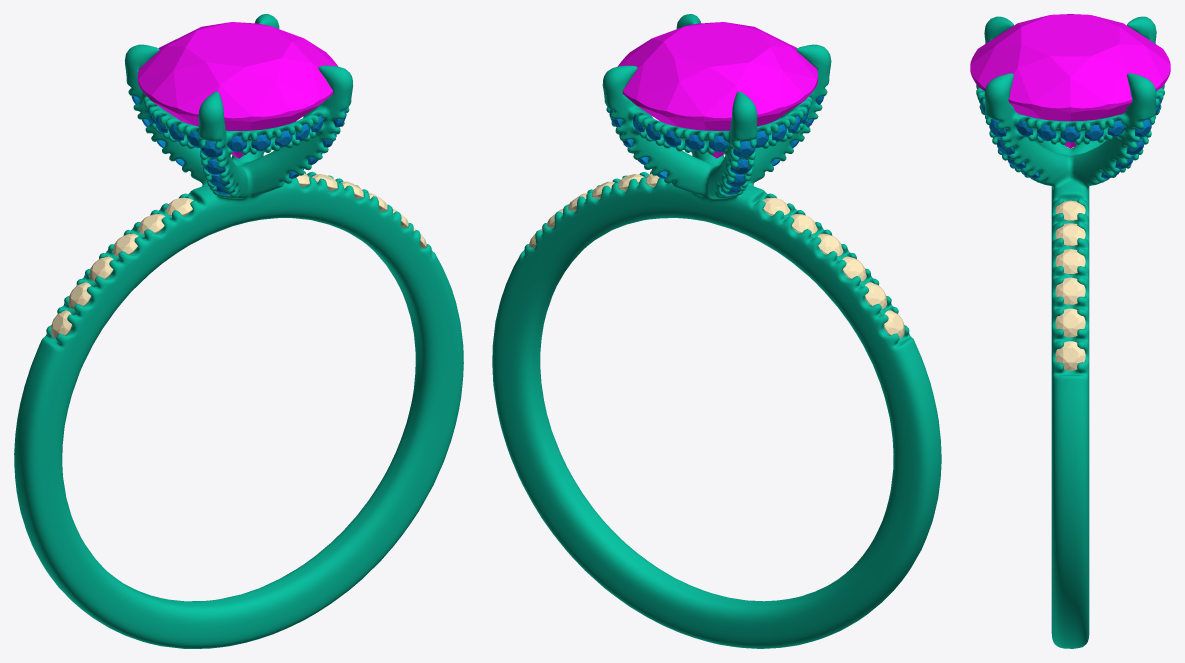
File: BE1D6912_RD_200ct_RENDER.glb
The picture shows the model from 3 angles, left to right: view 1: azimuth 30°, elevation 25°; view 2: azimuth 150°, elevation 25°; view 3: azimuth 270°, elevation 25°; orthographic projection.
Parts seen in each view (by area): view 1: Metal 01, CS_Diamond_Round; view 2: Metal 01, CS_Diamond_Round; view 3: Metal 01, CS_Diamond_Round, Diamond_Round_Gem_SH.005, Diamond_Round_Gem_SH.004, Diamond_Round_Gem_SH.003, Diamond_Round_Gem_SH.002, Diamond_Round_Gem_SH.001, Diamond_Round_Gem_SH.
Part boxes in pixels (box(x1,y1,x2,y2)): Metal 01: box(14, 14, 463, 648); CS_Diamond_Round: box(137, 22, 337, 158); Metal 01: box(492, 14, 941, 648); CS_Diamond_Round: box(618, 22, 817, 158); Metal 01: box(976, 16, 1164, 648); CS_Diamond_Round: box(970, 14, 1170, 148); Diamond_Round_Gem_SH.005: box(1055, 341, 1085, 370); Diamond_Round_Gem_SH.004: box(1055, 308, 1085, 337); Diamond_Round_Gem_SH.003: box(1055, 277, 1085, 304); Diamond_Round_Gem_SH.002: box(1055, 249, 1085, 274); Diamond_Round_Gem_SH.001: box(1055, 223, 1085, 246); Diamond_Round_Gem_SH: box(1055, 200, 1085, 220).
Bounding box in the file's own units: 20.1 × 25.97 × 8.
